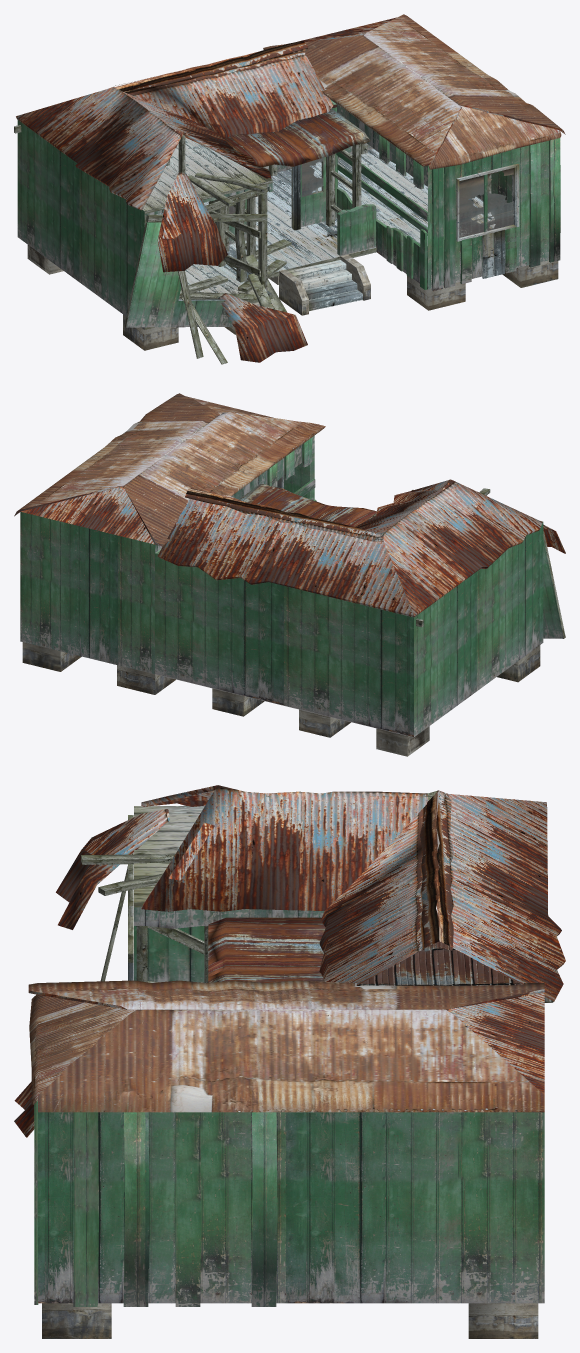
The model's file is shanty2.fbx.
3 renders of one model, top to bottom at view 1: azimuth 30°, elevation 25°; view 2: azimuth 150°, elevation 25°; view 3: azimuth 270°, elevation 25°, orthographic. The views are drawn at different scales.
Visible parts, largest first — view 1: U3DMesh, TwoSided; view 2: U3DMesh; view 3: U3DMesh.
Part boxes in pixels (bbox=[...]): U3DMesh: bbox=[14, 14, 565, 364]; TwoSided: bbox=[229, 158, 513, 236]; U3DMesh: bbox=[14, 393, 565, 756]; U3DMesh: bbox=[14, 785, 565, 1338].
Bounding box in the file's own units: 447 × 197 × 320.
